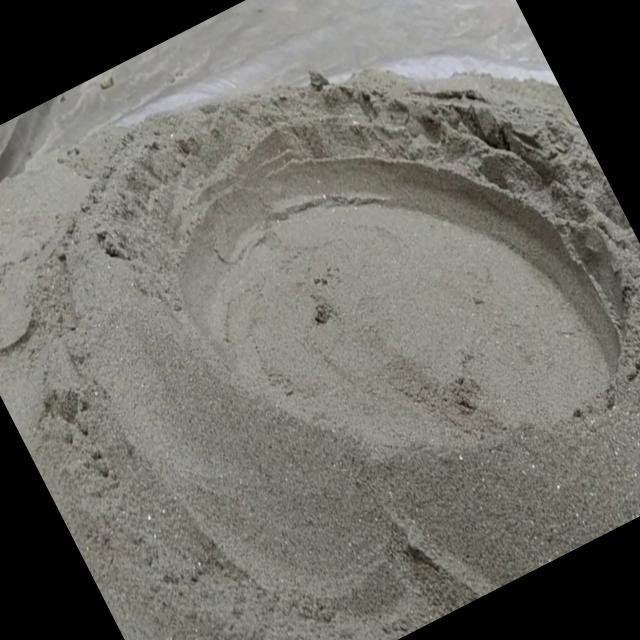C40: (175, 139, 619, 444)
